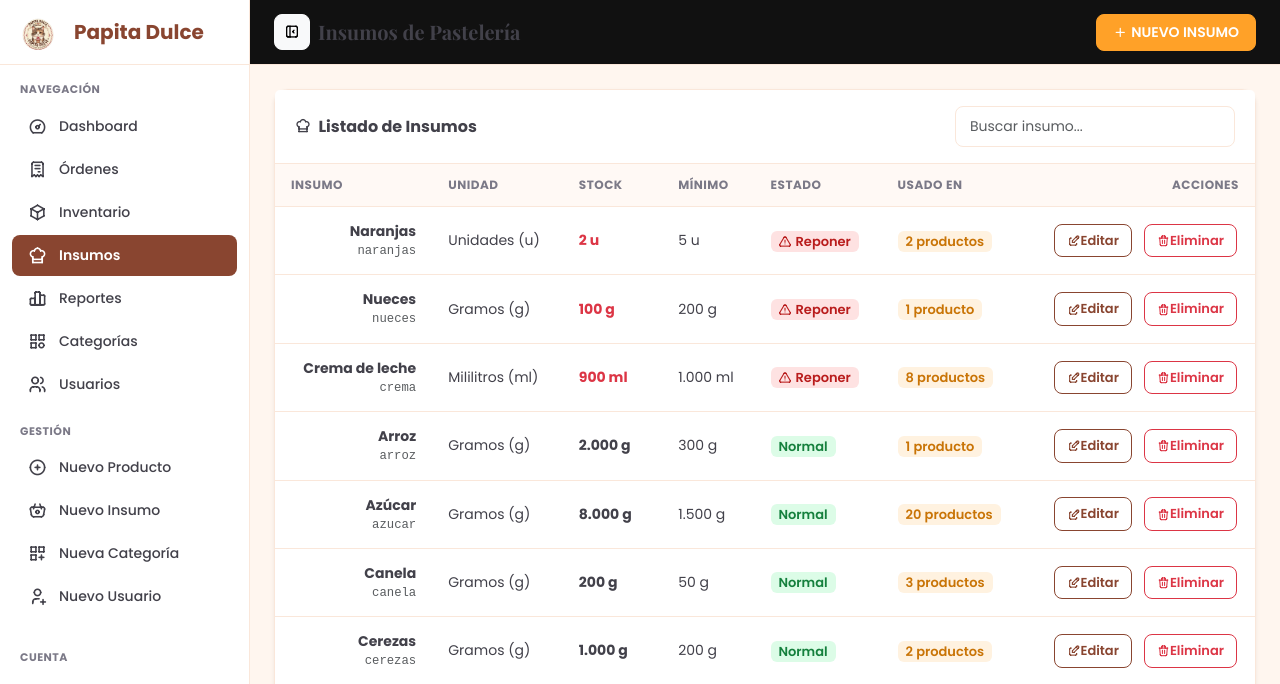
Test: Página de Insumos › si no hay coincidencias muestra un mensaje
This screenshot has width=1280, height=684.
Type "zzz" into the field with placeholder "Buscar insumo..." at (1095, 126), box [955,106,1235,147]
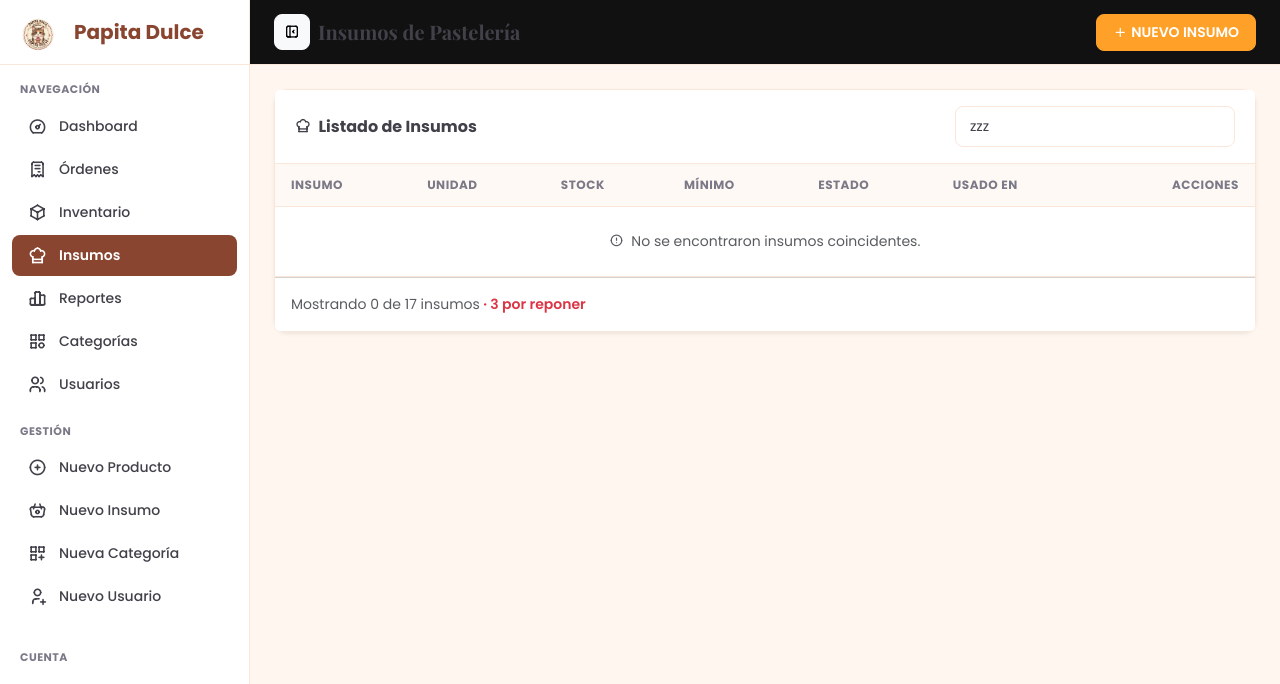
Now the text "No se encontraron insumos coincidentes." is shown, box [275,206,1255,276]
